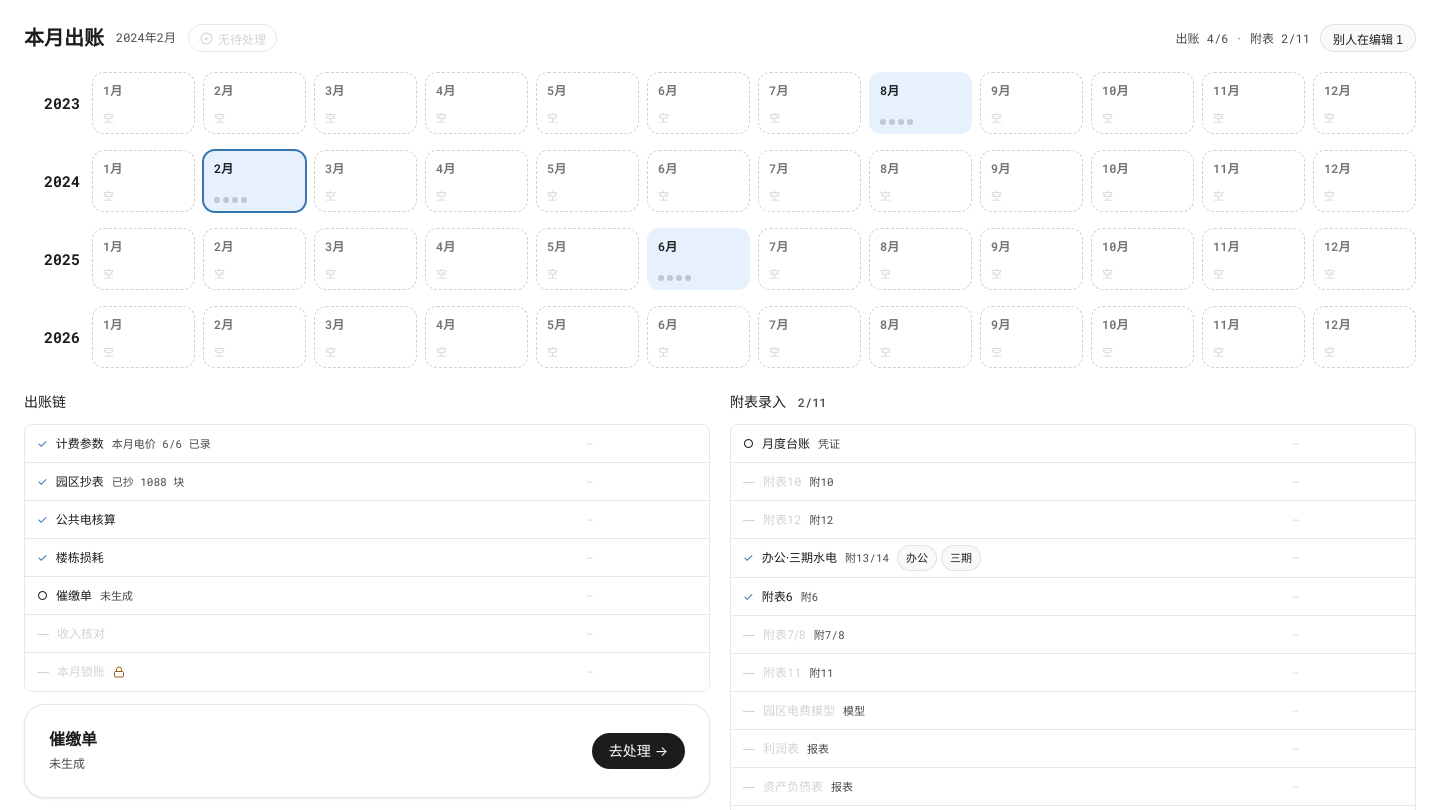
Test: 数据中心首页 · 主管条(P2 T6) › 主管:「谁在编辑」只数编辑态的别人 —— 自己不占位,mode=view 的不算(候选13)
Click the button with class "dh-edpill" at (1368, 38), box [1320,24,1416,52]
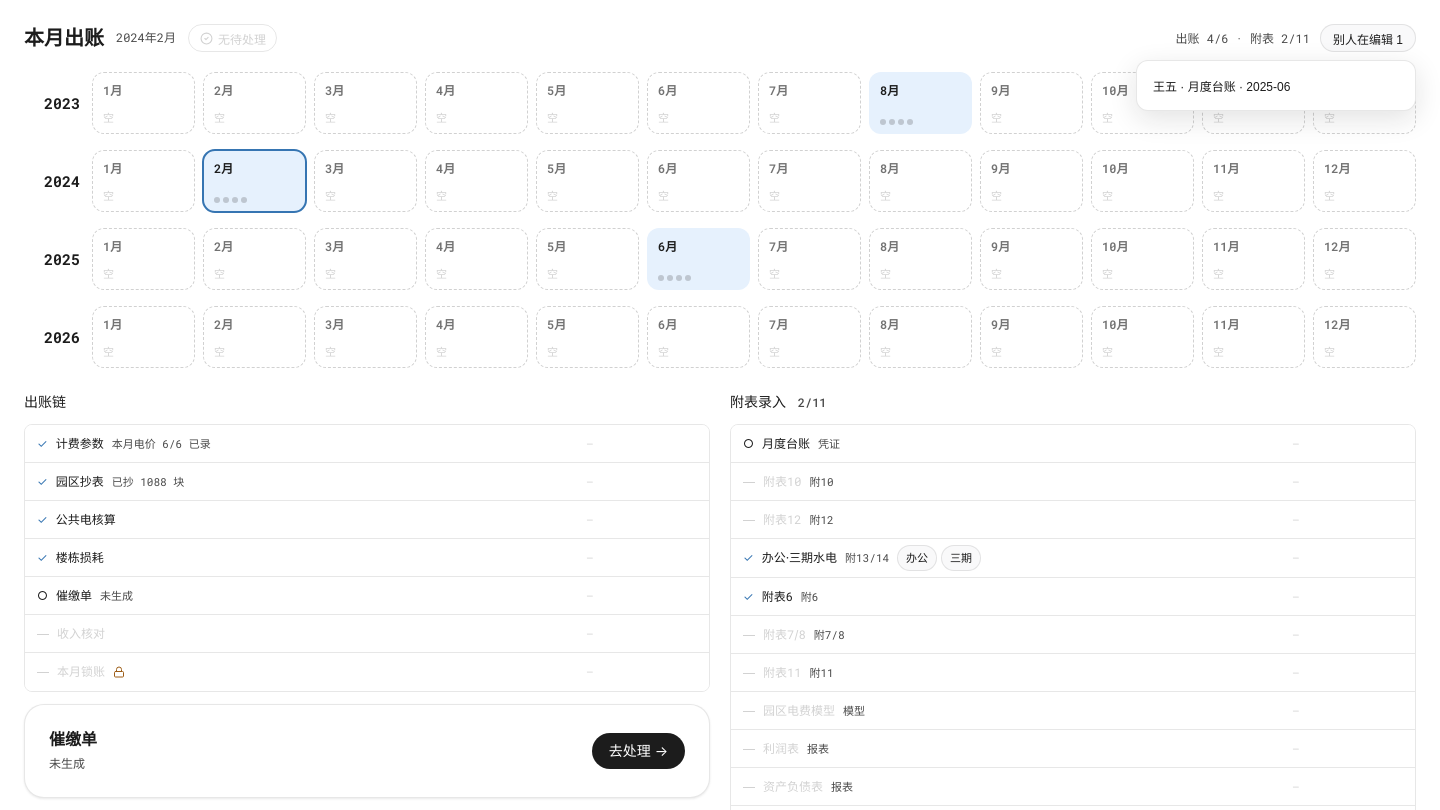
Expected: the number of buttons with class "dh-edrow" is 1, [1145,69,1407,102]
Expected: the button with class "dh-edrow" reads "王五 · 月度台账 · 2025-06", [1145,69,1407,102]
